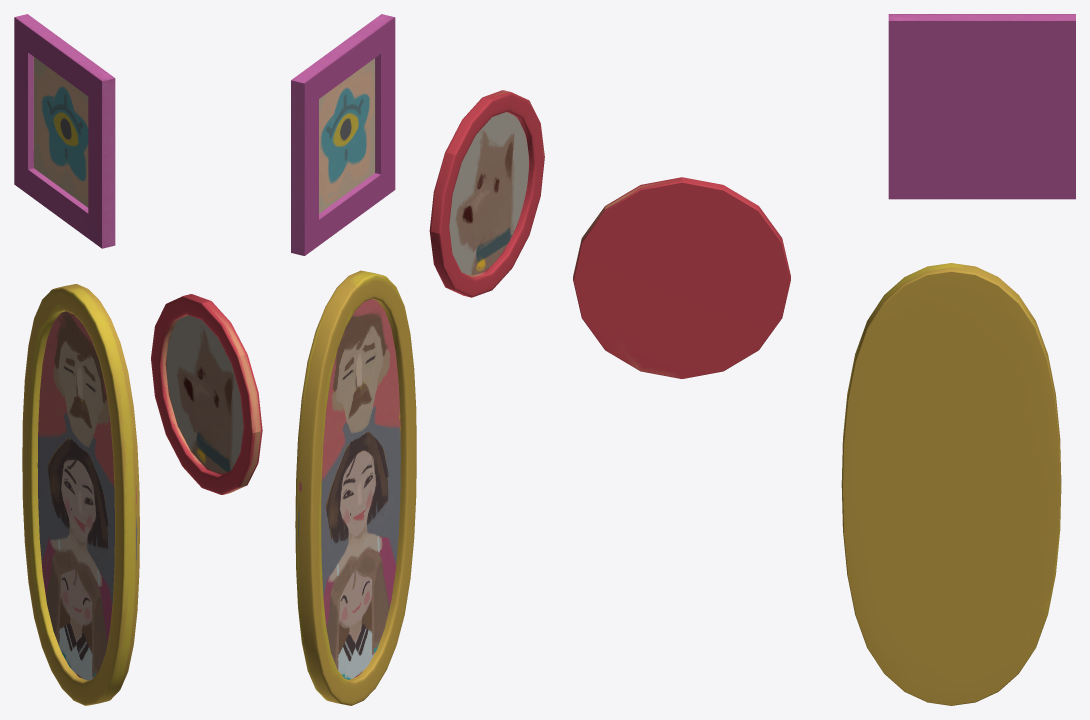
The model's file is wallpic_fam.fbx.
3 views of the same model, side by side, from view 1: azimuth 30°, elevation 25°; view 2: azimuth 150°, elevation 25°; view 3: azimuth 270°, elevation 25° (orthographic). The views are drawn at different scales.
Visible parts, largest first — view 1: Material #370, Material #368, Material #369; view 2: Material #370, Material #368, Material #369; view 3: Material #370, Material #368, Material #369.
Boxes of the visible parts, x1,y1,x2,y2 form: Material #370: [22, 284, 139, 705]; Material #368: [14, 14, 115, 248]; Material #369: [151, 294, 262, 494]; Material #370: [295, 270, 416, 705]; Material #368: [291, 14, 395, 255]; Material #369: [429, 90, 544, 297]; Material #370: [841, 263, 1061, 705]; Material #368: [888, 14, 1075, 199]; Material #369: [573, 177, 790, 378].
Bounding box in the file's own units: 10.27 × 371 × 247.
3 materials, 3 textured.
